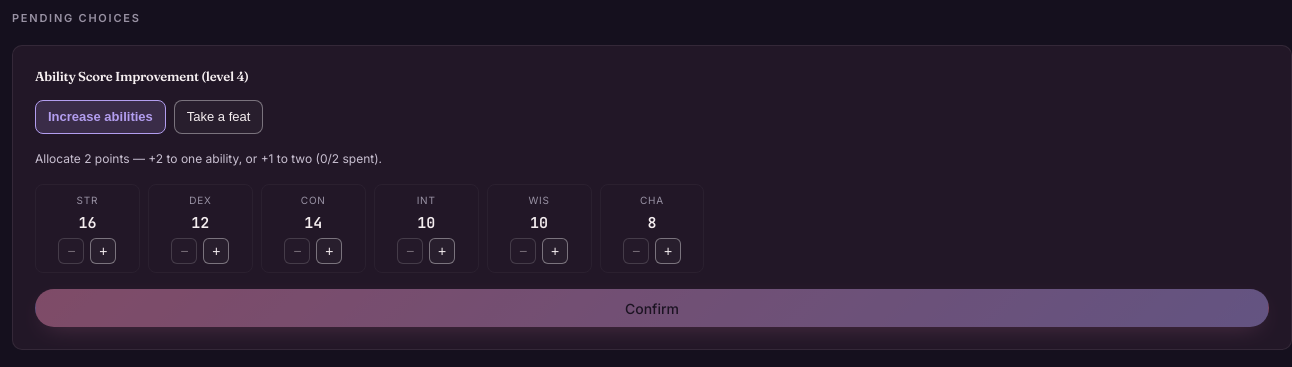
Scenario: LevelChoicePicker — ASI choice: ability increase › spends the 2-point budget — a third ability cannot be touched once two are allocated
Click the button named "increase strength allocation" at (104, 251), box [90,238,116,264]
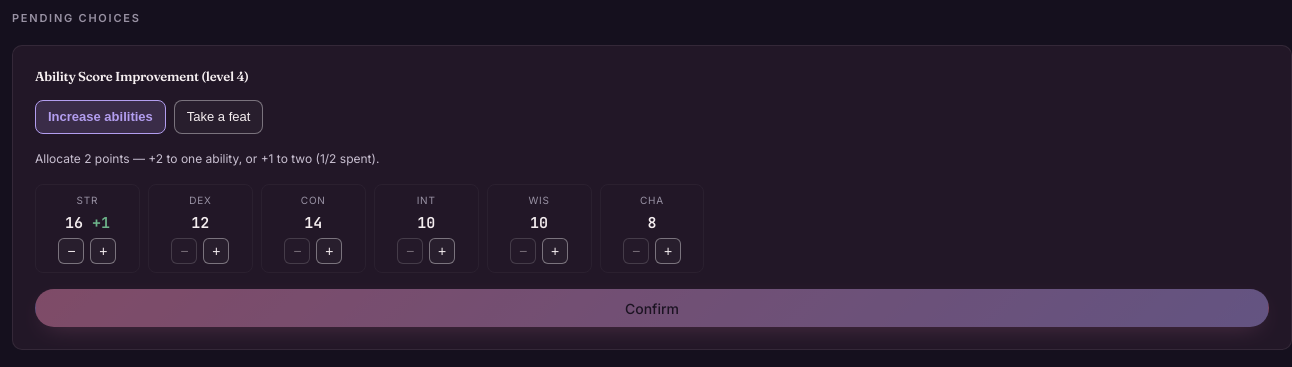
Click the button named "increase dexterity allocation" at (216, 251), box [203,238,229,264]
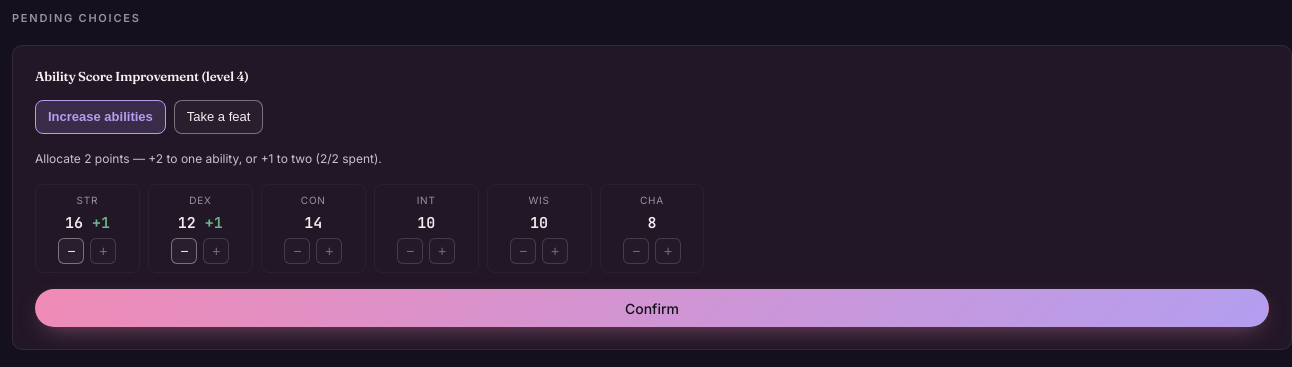
Result: the button named "decrease strength allocation" is enabled at [58,238,84,264]
Result: the button named "increase constitution allocation" is disabled at [316,238,342,264]
